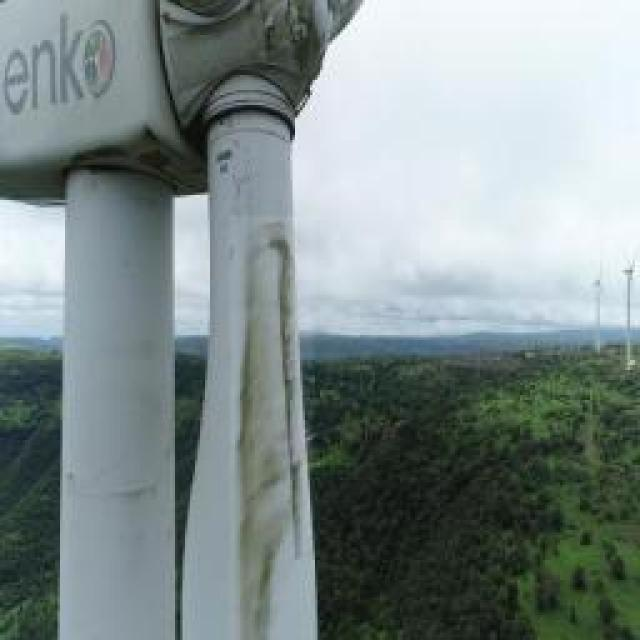Dirt: (210, 119, 311, 640)
